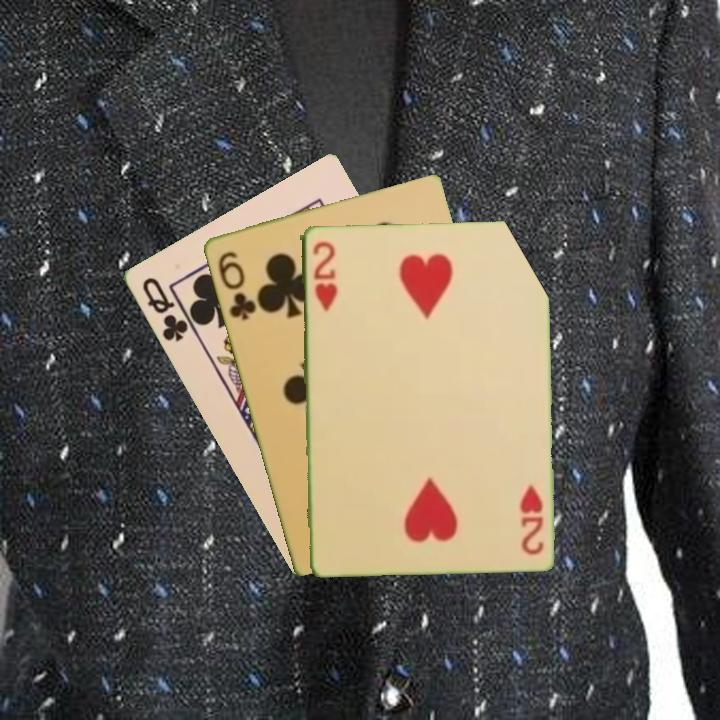2h: (309, 237, 339, 314), (516, 481, 546, 558)
6c: (214, 247, 259, 323)
Qc: (138, 273, 198, 345)
